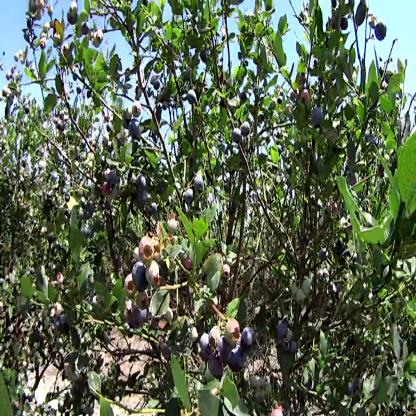mature: (135, 179, 150, 209), (210, 353, 225, 382), (132, 261, 146, 290), (374, 19, 388, 45), (233, 125, 254, 142), (230, 349, 245, 372), (313, 106, 325, 129), (243, 331, 256, 350), (278, 322, 289, 341), (132, 123, 142, 141), (108, 171, 119, 187), (188, 90, 198, 106)
young: (292, 275, 313, 304), (141, 234, 156, 265), (225, 319, 242, 344), (146, 264, 162, 290), (209, 326, 223, 347), (125, 273, 136, 298), (125, 104, 142, 119), (92, 29, 104, 49), (138, 293, 147, 312), (189, 328, 199, 343), (223, 267, 231, 279)
